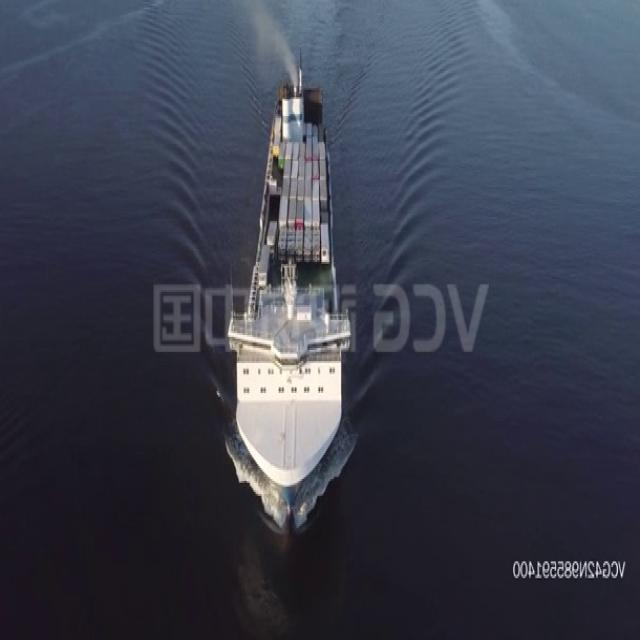cargoship: (232, 60, 348, 528)
